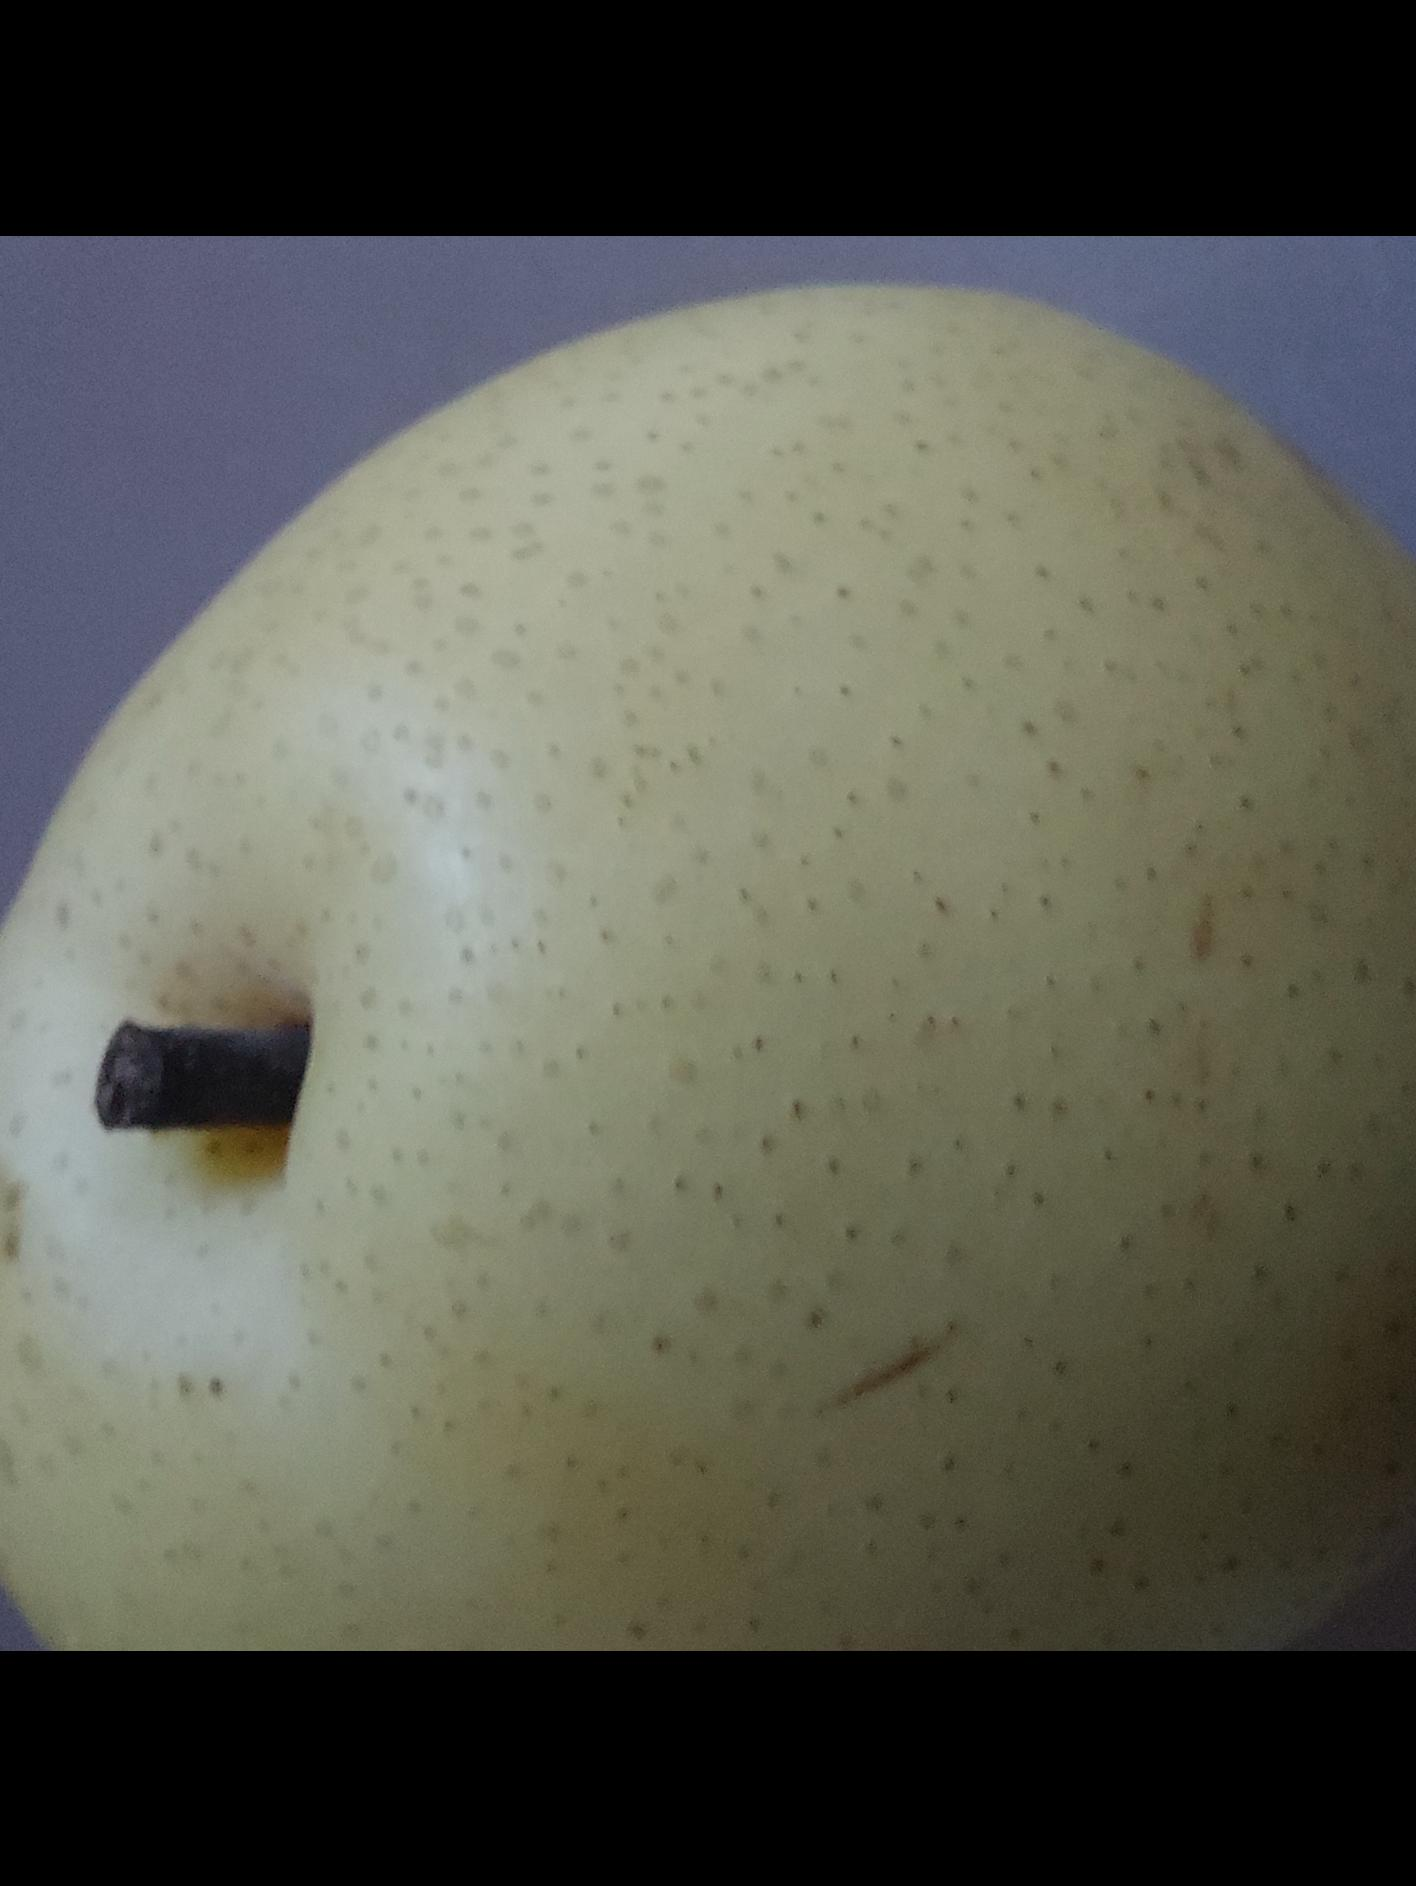Good Pear: (0, 271, 1416, 1651)
